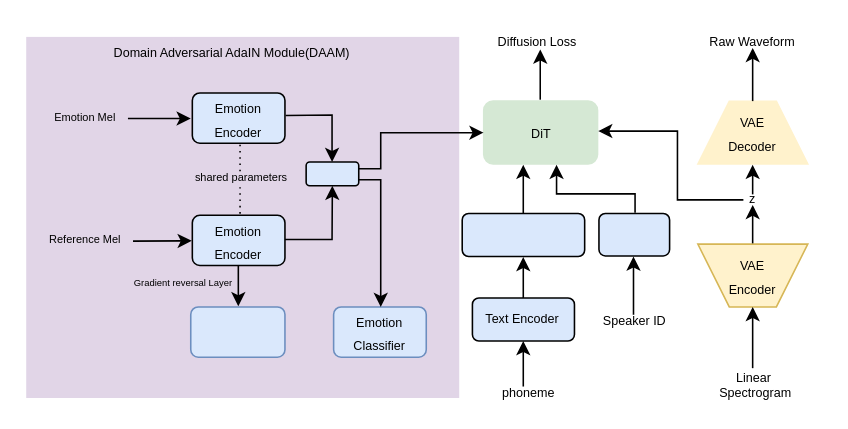
Some shapes in this 848 by 429 pixel diagram are drawn without their labels. The centre of each missing label's shape, as x and y in pixels:
AdaIN: point (332, 173)
Duration Predictor & LengthRegulator: point (523, 234)
Speaker Classifier: point (237, 331)
Speaker Embedding: point (633, 234)
